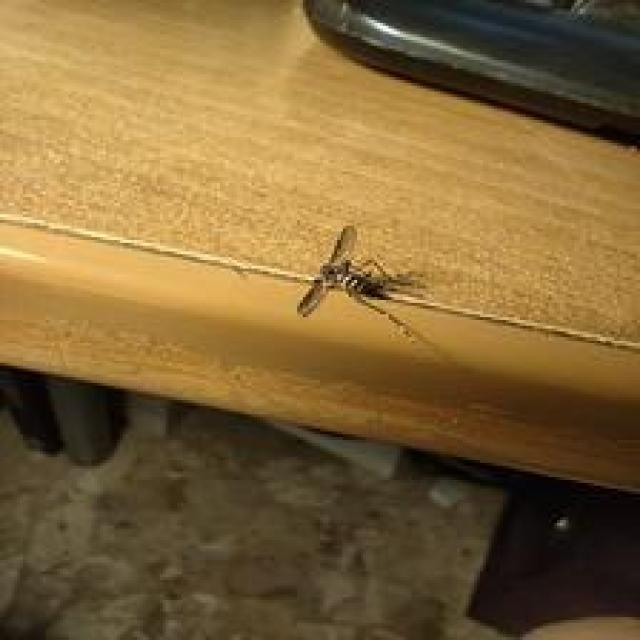Aedes albopictus: (294, 223, 434, 343)
